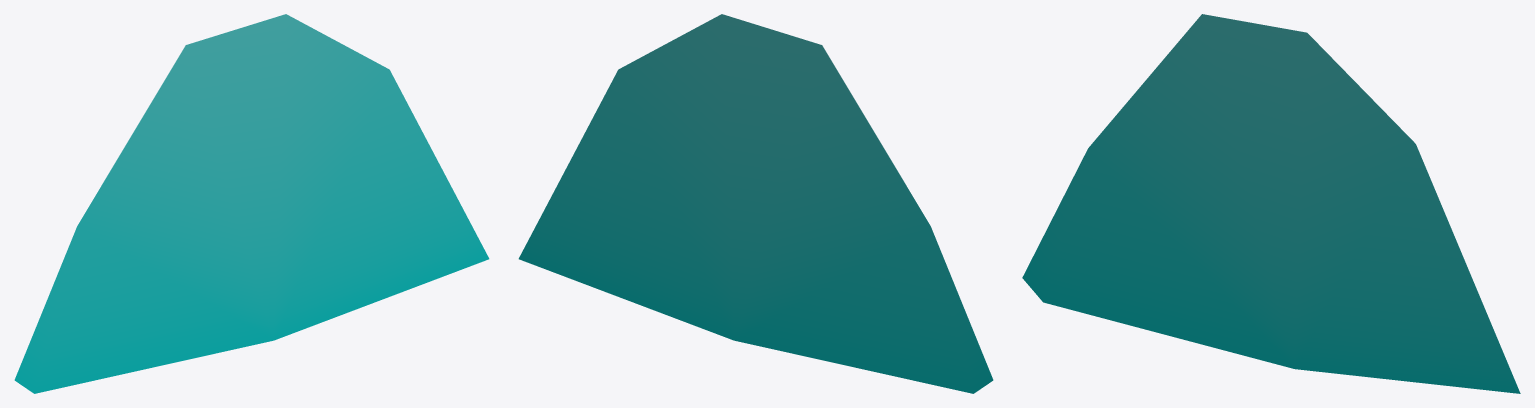
The model's file is Dead_Shrubs_vdknafgha_Low_vdknafgha_VarE_LOD3.fbx.
3 renders of one model, left to right at view 1: azimuth 30°, elevation 25°; view 2: azimuth 150°, elevation 25°; view 3: azimuth 330°, elevation 25°, orthographic. The views are drawn at different scales.
Visible parts, largest first — view 1: _rngw_VarE_LOD4; view 2: _rngw_VarE_LOD4; view 3: _rngw_VarE_LOD4.
Boxes of the visible parts, bbox=[...] form: _rngw_VarE_LOD4: bbox=[14, 14, 489, 393]; _rngw_VarE_LOD4: bbox=[518, 14, 993, 393]; _rngw_VarE_LOD4: bbox=[1022, 14, 1520, 393].
Size of the model in its own units: 74.33 by 48.38 by 0.
